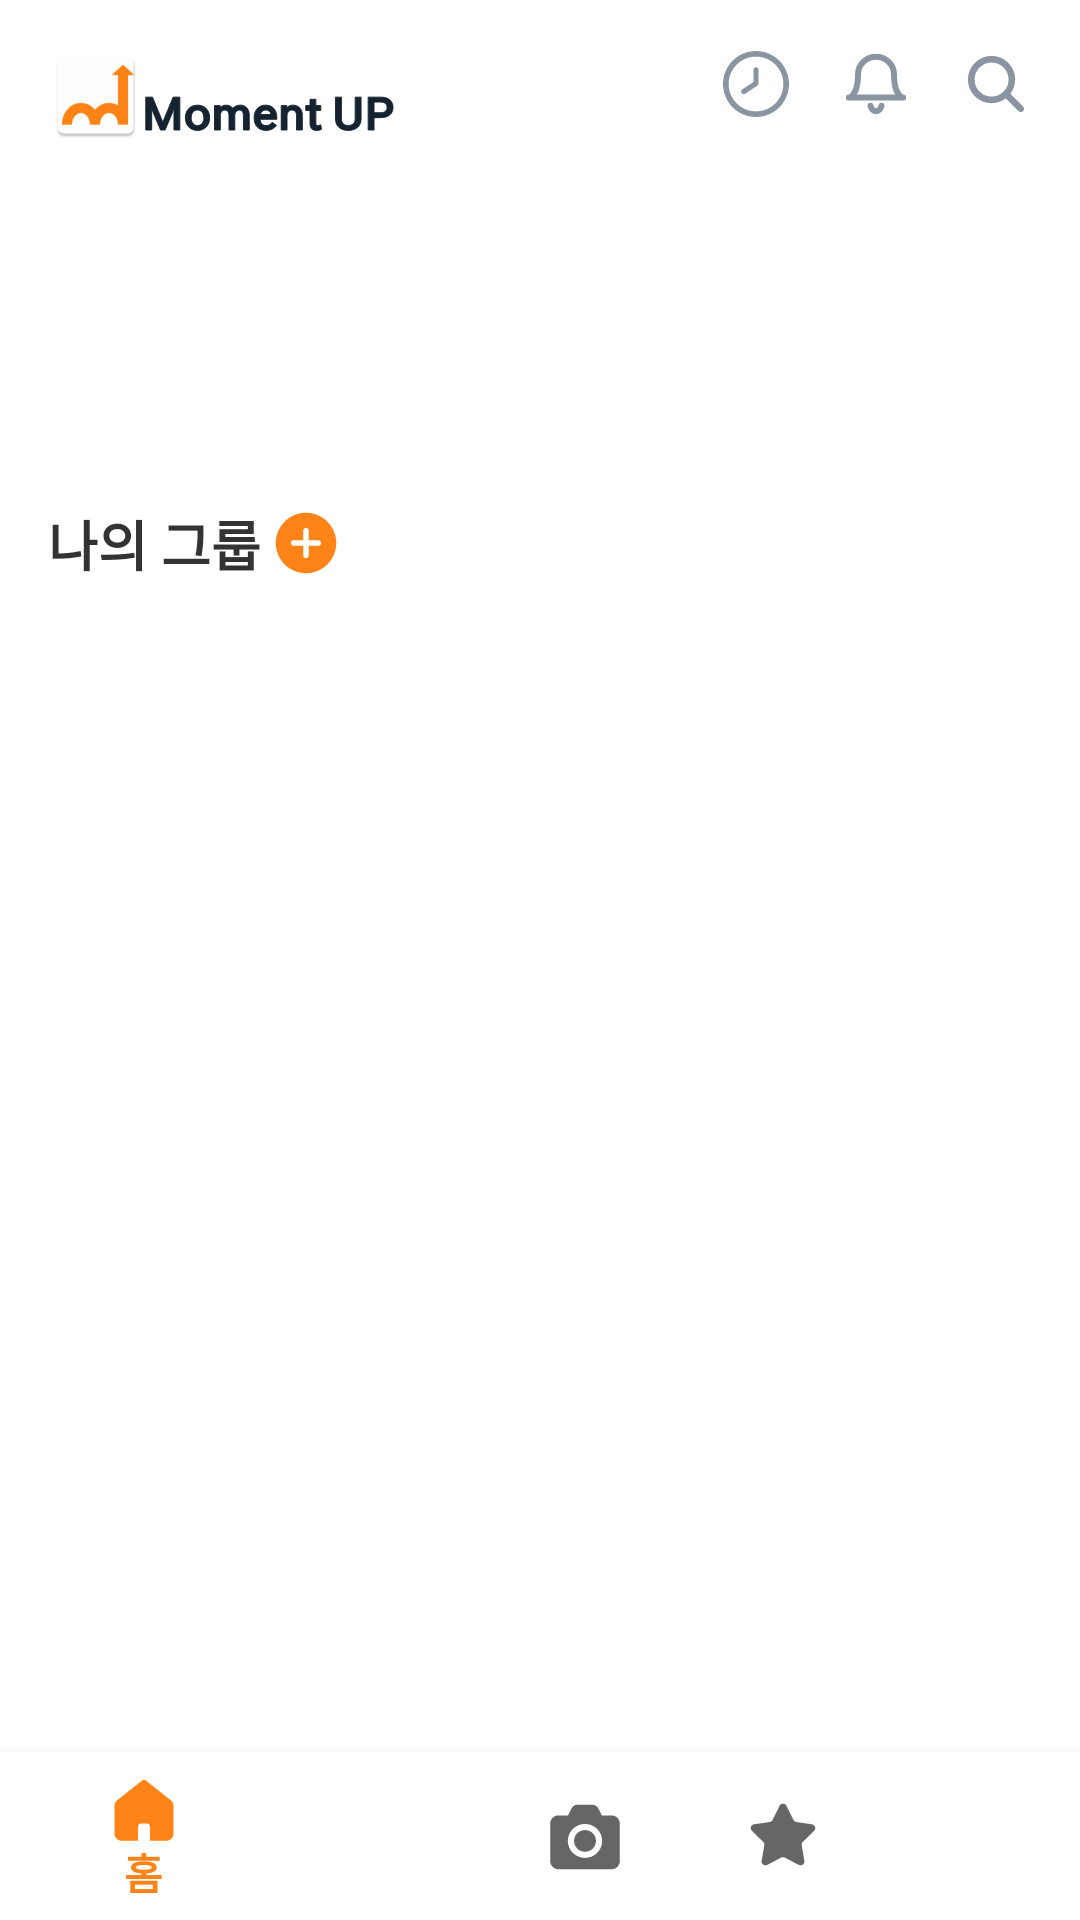

Icon bounding boxes for this 1080x1920 phone screenshot, format (x1, y1, x2, y2):
add: (275, 512, 337, 574)
clock mono: (723, 51, 789, 117)
notification mono: (846, 54, 906, 114)
search mono: (968, 56, 1024, 112)
